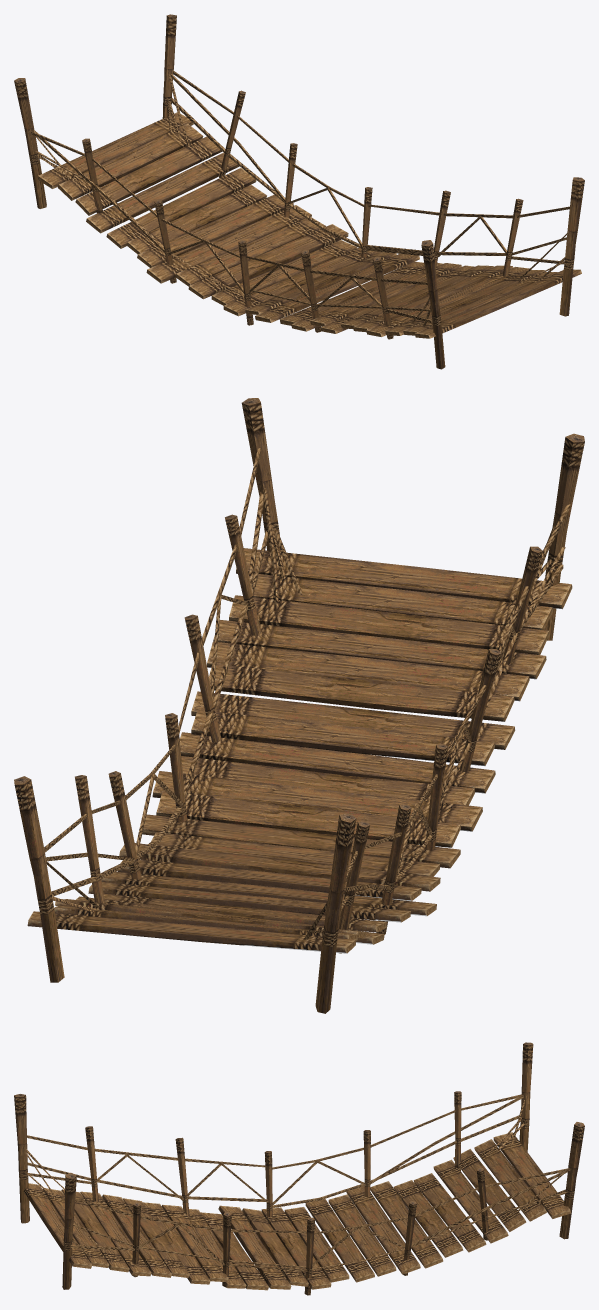
The model's file is Item_5007_gutou_diaoqiao.FBX.
3 renders of one model, top to bottom at view 1: azimuth 30°, elevation 25°; view 2: azimuth 150°, elevation 25°; view 3: azimuth 270°, elevation 25°, orthographic. The views are drawn at different scales.
Visible parts, largest first — view 1: Item_5007_gutou_diaoqiao; view 2: Item_5007_gutou_diaoqiao; view 3: Item_5007_gutou_diaoqiao.
Boxes of the visible parts, x1=… form: Item_5007_gutou_diaoqiao: x1=14, y1=14, x2=584, y2=369; Item_5007_gutou_diaoqiao: x1=14, y1=398, x2=584, y2=1013; Item_5007_gutou_diaoqiao: x1=14, y1=1042, x2=584, y2=1295.
Bounding box in the file's own units: 982 × 507 × 1656.
